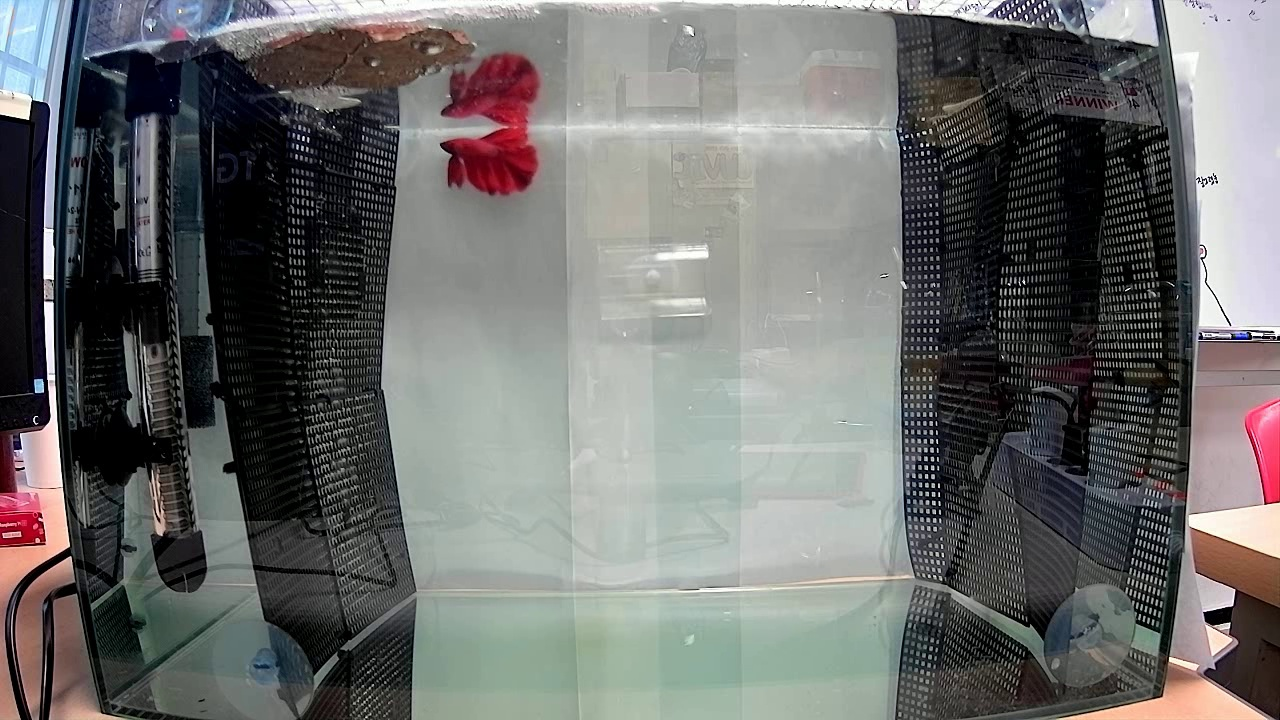fish: (432, 120, 546, 194)
